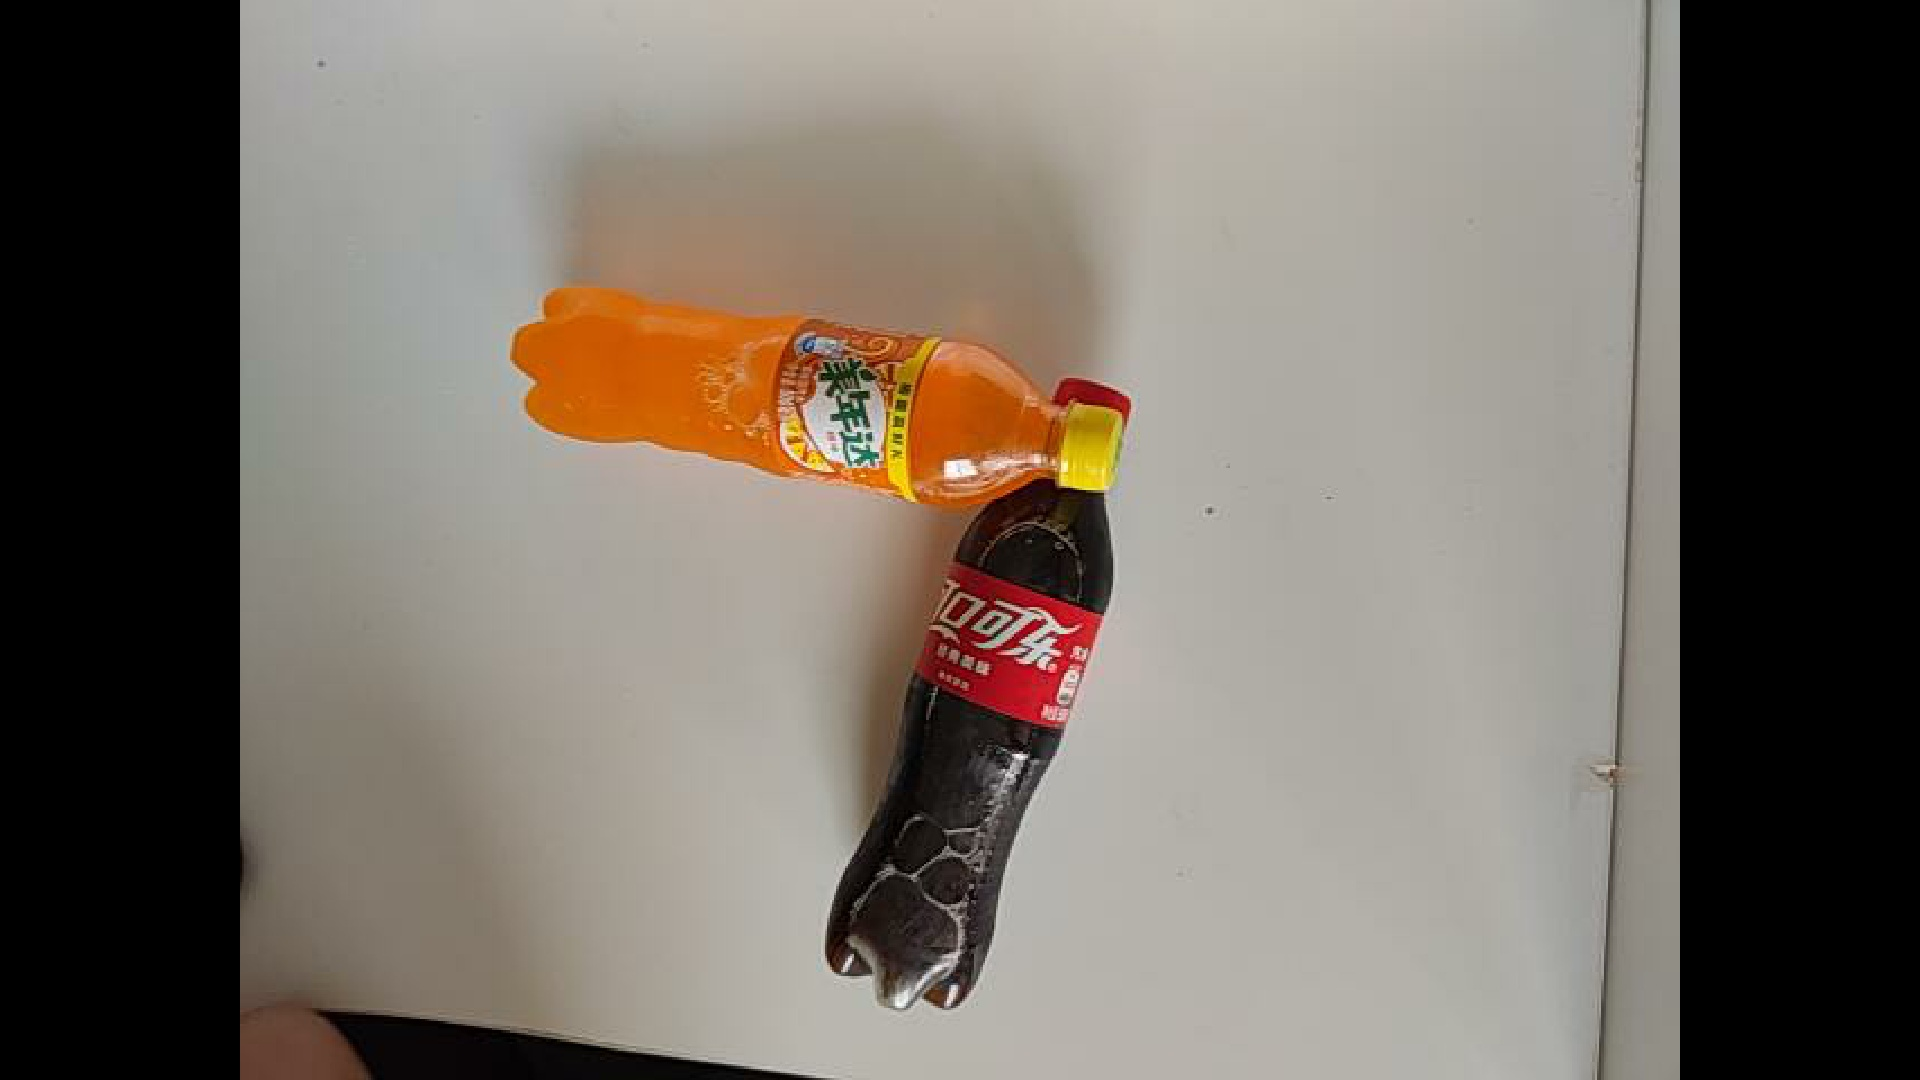cola: (640, 352, 1178, 1015)
fenta: (473, 261, 1139, 488)
